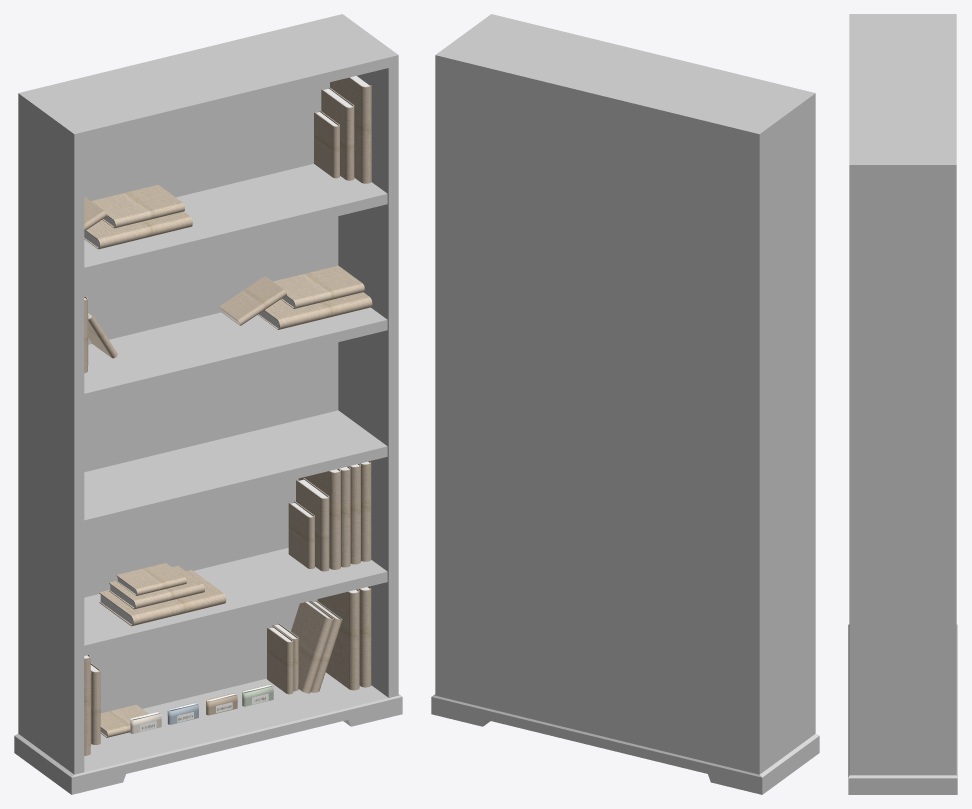
The model's file is books-list.glb.
The picture shows the model from 3 angles, left to right: view 1: azimuth 30°, elevation 25°; view 2: azimuth 150°, elevation 25°; view 3: azimuth 270°, elevation 25°; orthographic projection. The views are drawn at different scales.
Parts seen in each view (by area): view 1: book, 上, 3, 代, 2, 1, 4, l, m.010, m.003, l.001, m (+20 smaller); view 2: book, 上, 代; view 3: book, 上, 代.
Part boxes in pixels (x1,y1,x2,y2): book: (18, 65, 398, 774); 上: (18, 14, 398, 144); 3: (84, 410, 387, 530); 代: (14, 672, 402, 794); 2: (84, 307, 387, 403); 1: (84, 164, 387, 277); 4: (84, 548, 387, 655); l: (317, 589, 359, 690); m.010: (91, 184, 184, 228); m.003: (273, 265, 364, 308); l.001: (99, 570, 226, 626); m: (291, 601, 333, 693); book: (435, 65, 815, 774); 上: (435, 14, 815, 144); 代: (431, 694, 819, 794); book: (849, 174, 956, 775); 上: (849, 14, 956, 174); 代: (848, 624, 957, 794).
Bounding box in the file's own units: 2 × 3.9 × 0.6.
14 materials, 8 textured.
